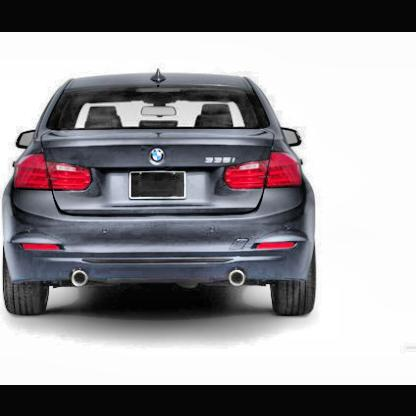BMW 3 Series Sedan 2012: (3, 69, 317, 319)
